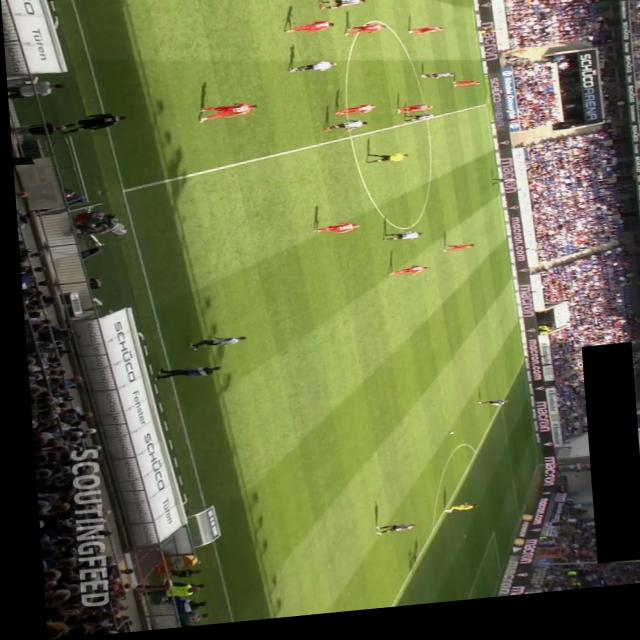goalkeeper: (433, 510, 467, 522)
player: (195, 106, 256, 127), (182, 338, 241, 355), (282, 26, 334, 42), (321, 125, 366, 142), (317, 3, 365, 17), (285, 67, 335, 80), (309, 228, 355, 242), (330, 110, 374, 124), (378, 237, 418, 251), (342, 30, 385, 43), (382, 273, 423, 286), (366, 530, 408, 542), (392, 112, 431, 123), (405, 34, 442, 45), (438, 251, 470, 262), (400, 121, 435, 131), (470, 408, 502, 418), (418, 80, 453, 89), (450, 88, 478, 97), (487, 187, 512, 196)
referee: (361, 158, 406, 171), (474, 36, 502, 44)
